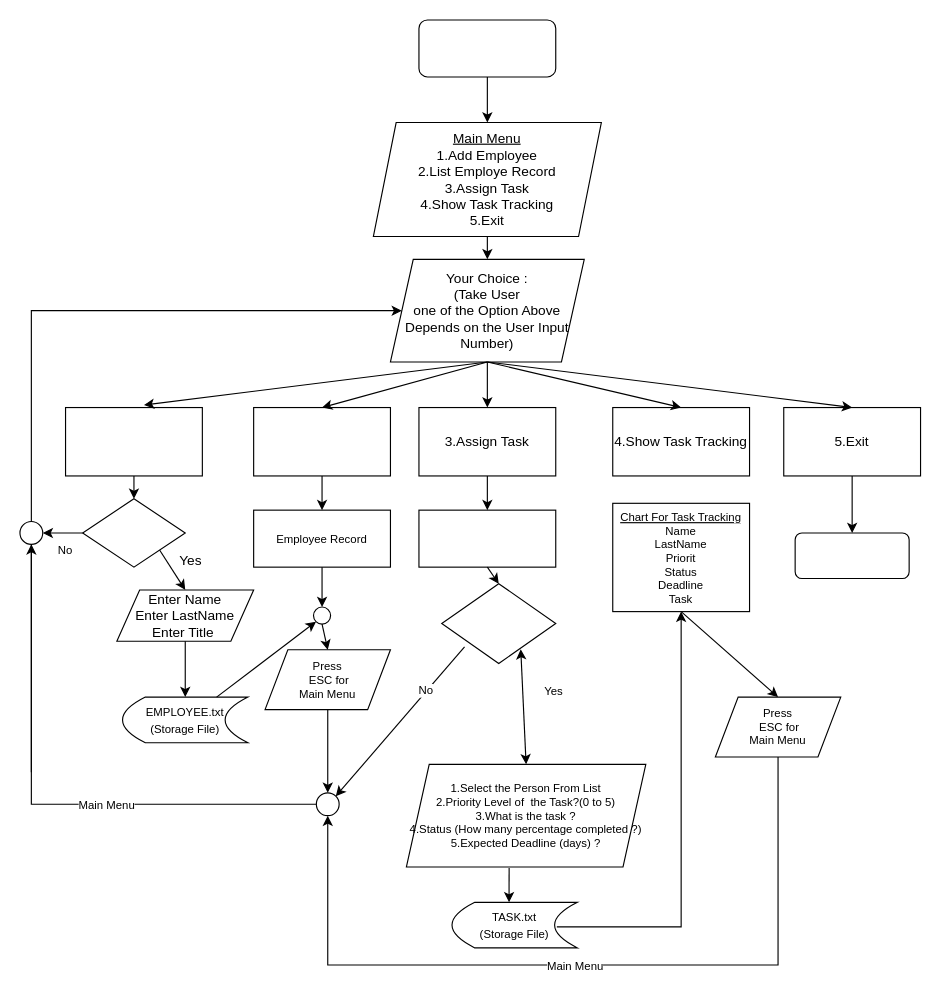
Image size: 941x994. Some labels were removed from this diagram. Each missing label, with the centre of its shape:
"1.Add New Employee" belongs at point 133,441.
"2.List Employee Records" belongs at point 321,441.
"Add New Employee (y/n)" belongs at point 133,532.
"Do you want to assign a task? (y/n)" belongs at point 498,623.
"End" belongs at point 851,555.
"List of Employee" belongs at point 487,538.
"Start" belongs at point 487,48.
